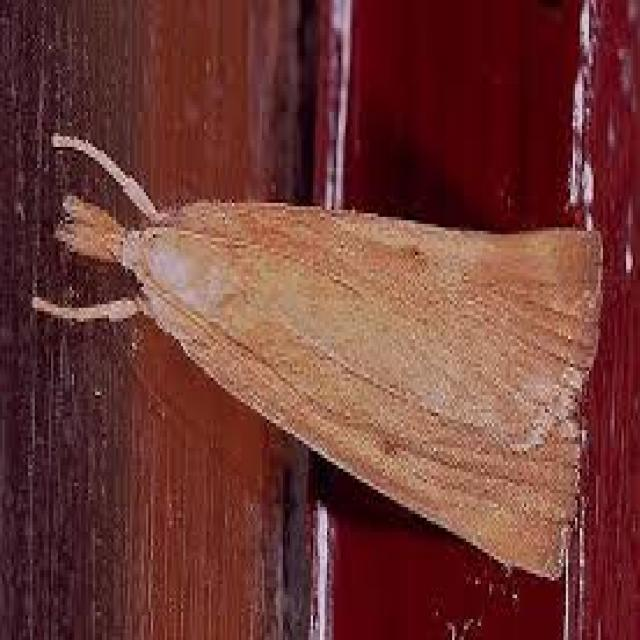yellow-stem-borer: (34, 92, 619, 601)
